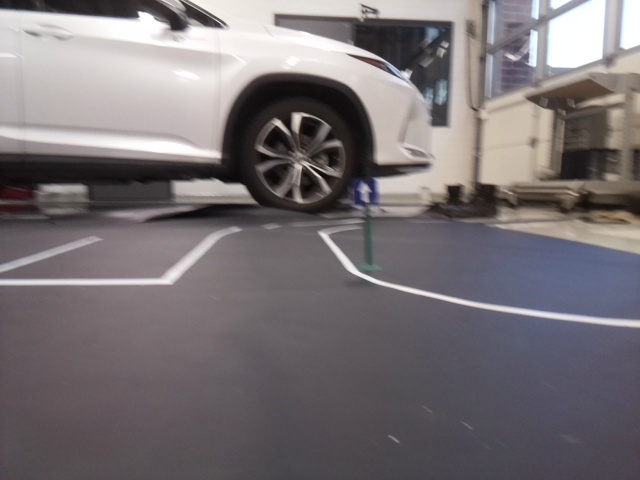OneWay: (354, 179, 377, 202)
